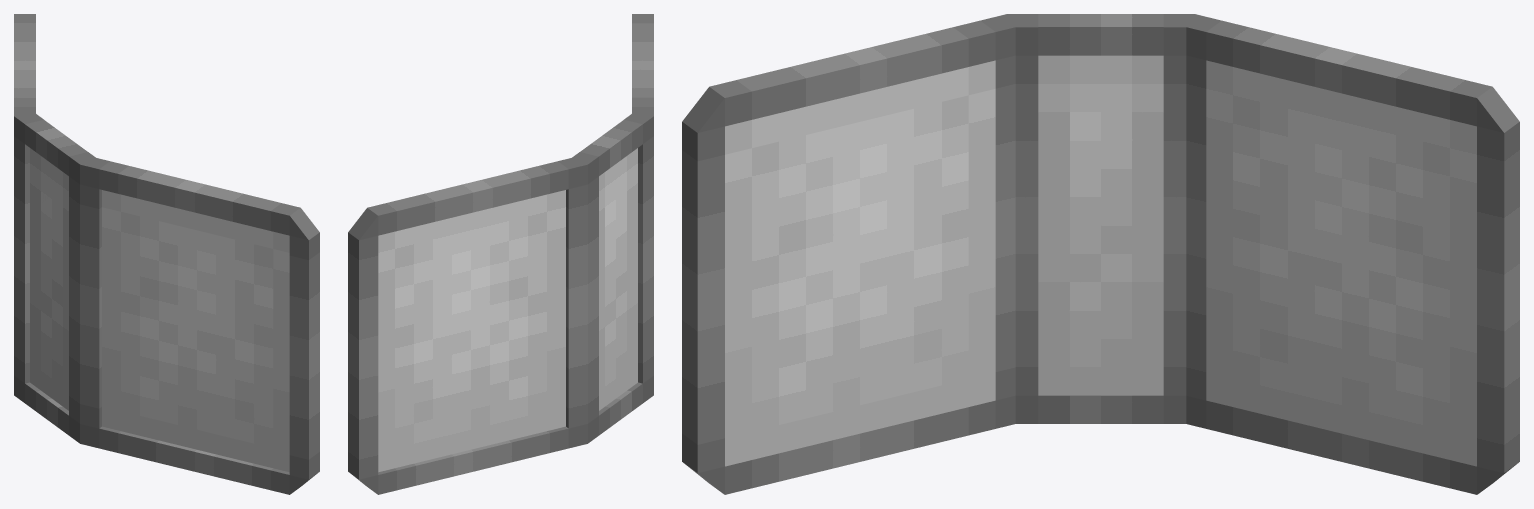
Rendered from spellbook_open_tint.obj.
3 renders of one model, left to right at view 1: azimuth 30°, elevation 25°; view 2: azimuth 150°, elevation 25°; view 3: azimuth 270°, elevation 25°, orthographic. The views are drawn at different scales.
Parts seen in each view (by area): view 1: COVER_FRONT_VAR1_OPEN_Cube.057, SPINE_VAR1_OPEN_Cube.058, COVER_BACK_VAR1_OPEN_Cube.053; view 2: COVER_BACK_VAR1_OPEN_Cube.053, SPINE_VAR1_OPEN_Cube.058, COVER_FRONT_VAR1_OPEN_Cube.057; view 3: COVER_BACK_VAR1_OPEN_Cube.053, COVER_FRONT_VAR1_OPEN_Cube.057, SPINE_VAR1_OPEN_Cube.058.
Part boxes in pixels (x1=…): COVER_FRONT_VAR1_OPEN_Cube.057: x1=80, y1=156, x2=319, y2=494; SPINE_VAR1_OPEN_Cube.058: x1=14, y1=112, x2=98, y2=443; COVER_BACK_VAR1_OPEN_Cube.053: x1=14, y1=14, x2=35, y2=130; COVER_BACK_VAR1_OPEN_Cube.053: x1=348, y1=156, x2=587, y2=494; SPINE_VAR1_OPEN_Cube.058: x1=570, y1=111, x2=653, y2=443; COVER_FRONT_VAR1_OPEN_Cube.057: x1=632, y1=14, x2=653, y2=130; COVER_BACK_VAR1_OPEN_Cube.053: x1=1186, y1=14, x2=1519, y2=494; COVER_FRONT_VAR1_OPEN_Cube.057: x1=682, y1=14, x2=1017, y2=494; SPINE_VAR1_OPEN_Cube.058: x1=1007, y1=14, x2=1194, y2=423.
Bounding box in the file's own units: 0.4291 × 0.875 × 1.67.
